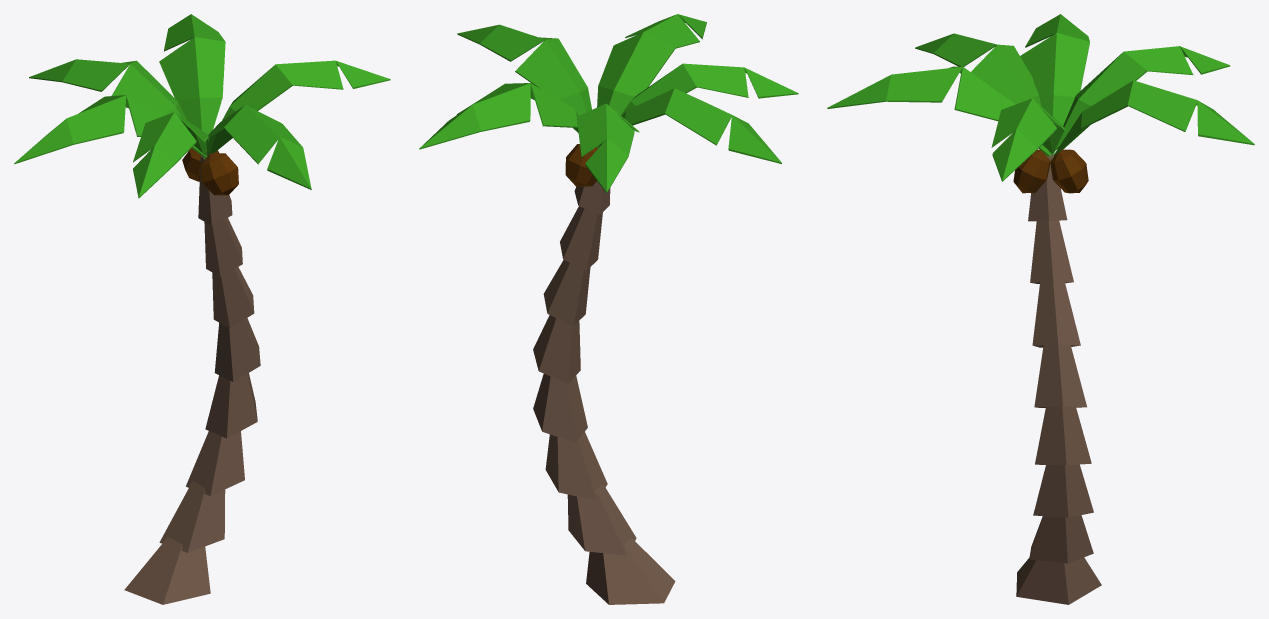
The model's file is palmtree.fbx.
3 renders of one model, left to right at view 1: azimuth 30°, elevation 25°; view 2: azimuth 150°, elevation 25°; view 3: azimuth 270°, elevation 25°, orthographic. The views are drawn at different scales.
Visible parts, largest first — view 1: Palm_02_LOD0; view 2: Palm_02_LOD0; view 3: Palm_02_LOD0.
Boxes of the visible parts, <box> form: Palm_02_LOD0: <box>14,14,390,604</box>; Palm_02_LOD0: <box>419,14,798,604</box>; Palm_02_LOD0: <box>827,14,1254,604</box>.
Size of what is drawn, in the model's own units: 529 by 738 by 533.
1 material, 1 textured.
